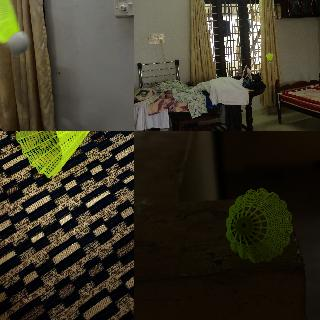shuttlecock: (10, 131, 114, 179), (226, 188, 292, 262), (0, 0, 30, 53), (266, 54, 272, 62)
